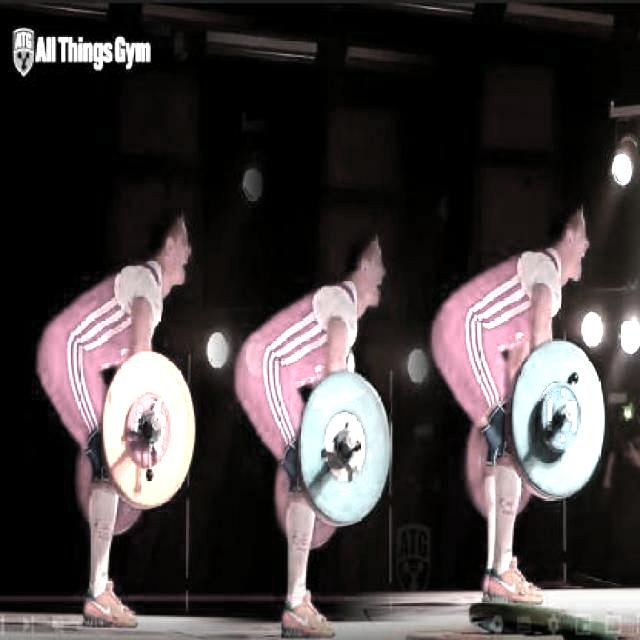barbell: (507, 330, 612, 509), (100, 347, 200, 517), (292, 365, 395, 530)
